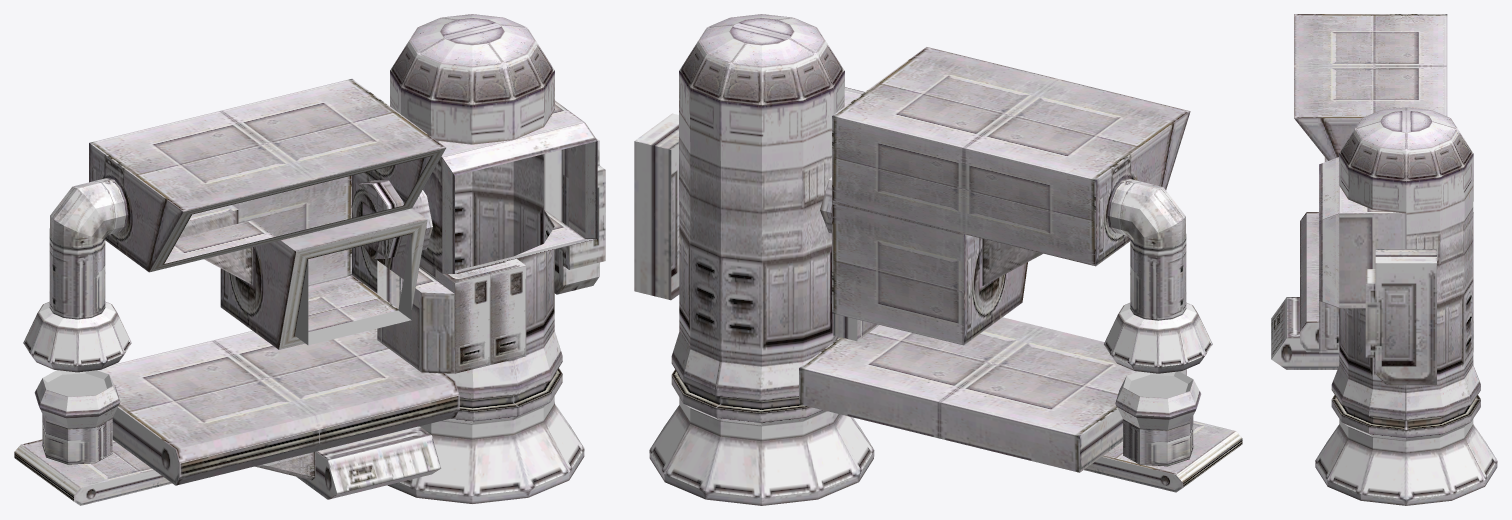
File: eqp_food_mfg_station_m_s1_l0.fbx
The picture shows the model from 3 angles, left to right: view 1: azimuth 30°, elevation 25°; view 2: azimuth 150°, elevation 25°; view 3: azimuth 270°, elevation 25°; orthographic projection. The views are drawn at different scales.
Parts seen in each view (by area): view 1: mesh_node; view 2: mesh_node; view 3: mesh_node.
Boxes of the visible parts, left/top/right/bottom form: mesh_node: left=14, top=14, right=605, bottom=505; mesh_node: left=634, top=14, right=1242, bottom=505; mesh_node: left=1271, top=14, right=1497, bottom=505.
Bounding box in the file's own units: 3.85 × 2.84 × 1.68.
